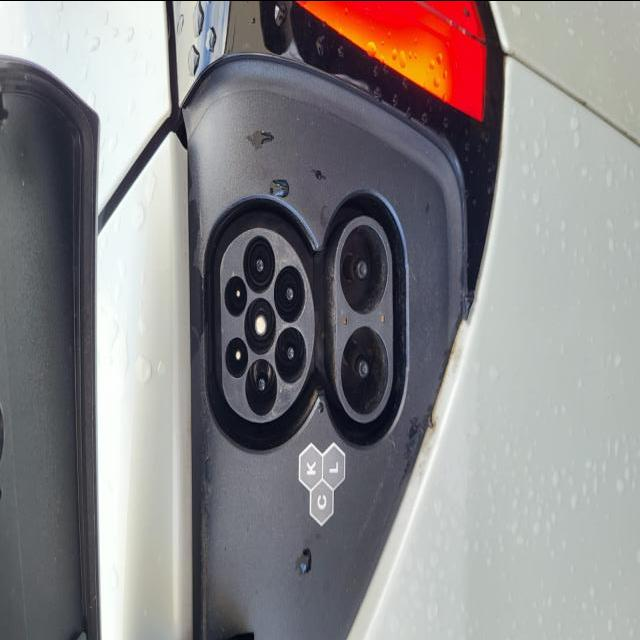inlet: (220, 227, 314, 422)
inlet-above-left: (225, 336, 248, 377)
inlet-above-right: (224, 275, 247, 316)
inlet-below-left: (275, 326, 307, 382)
inlet-below-right: (274, 264, 307, 322)
inlet-center: (244, 297, 276, 355)
inlet-center-left: (245, 358, 277, 415)
inlet-center-right: (243, 235, 275, 293)
